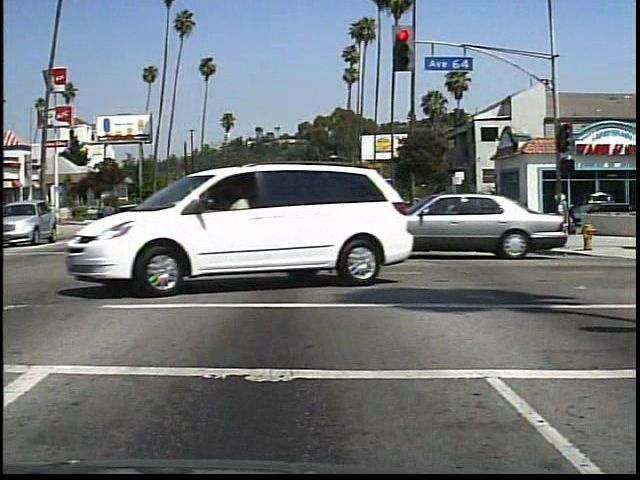person: (549, 188, 576, 238)
